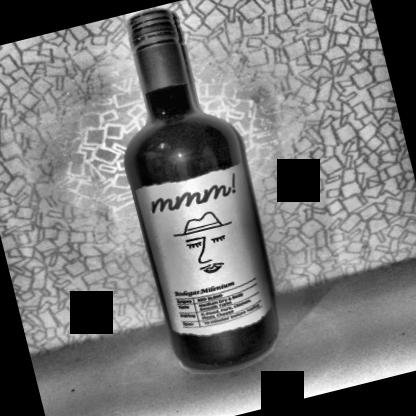umm: (137, 163, 281, 347)
